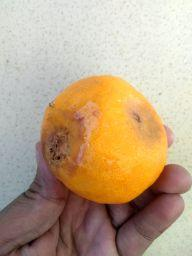Unripe: (40, 77, 168, 200)
